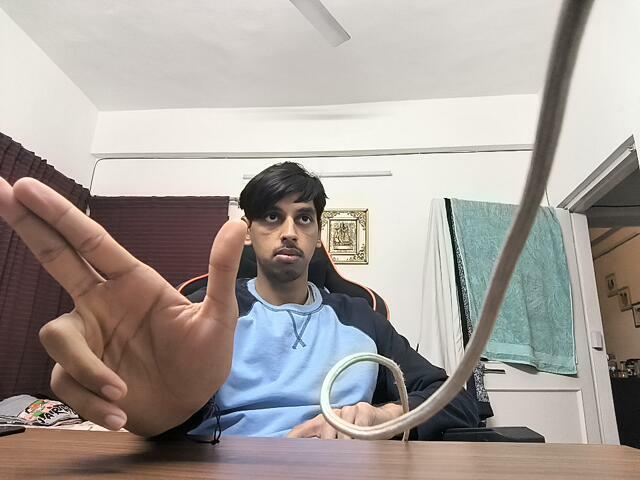FORWARD: (1, 171, 270, 435)
